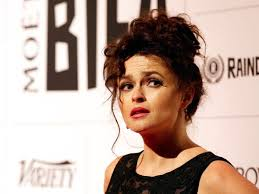middle_eastern_Female: (117, 57, 191, 130)
